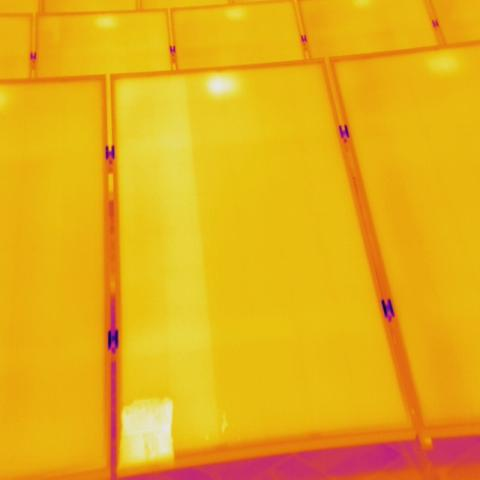fault: (122, 396, 174, 467), (209, 73, 239, 98)
